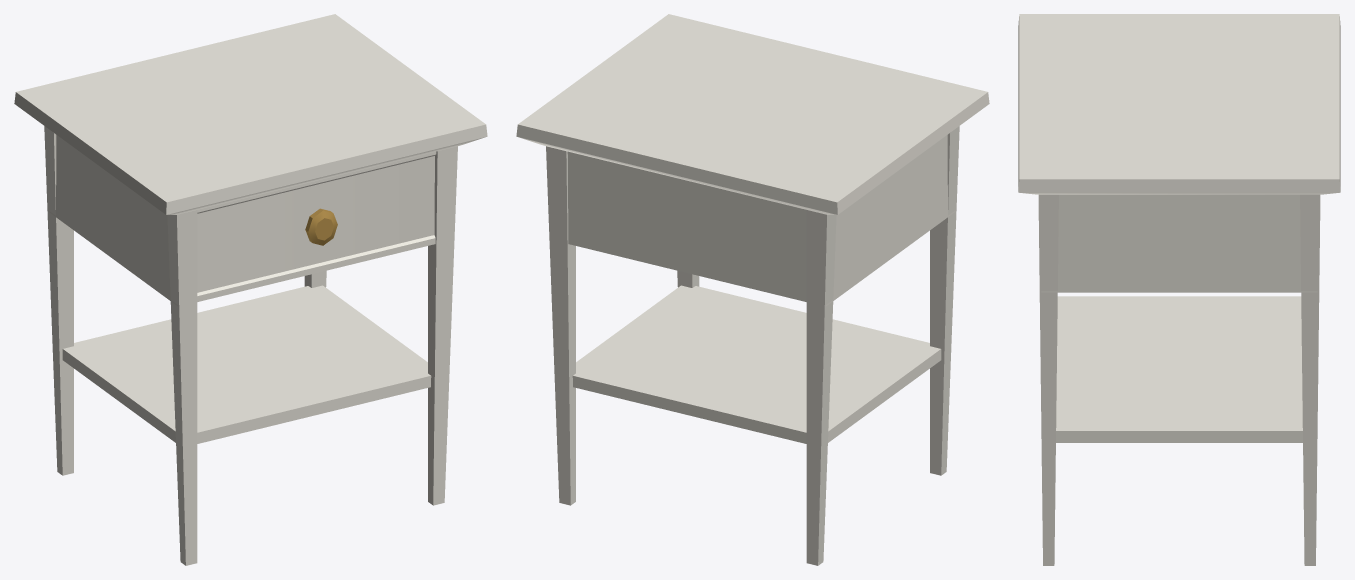
The model's file is pk_end_white.glb.
The picture shows the model from 3 angles, left to right: view 1: azimuth 30°, elevation 25°; view 2: azimuth 150°, elevation 25°; view 3: azimuth 270°, elevation 25°; orthographic projection. The views are drawn at different scales.
Parts seen in each view (by area): view 1: pk_end_white; view 2: pk_end_white; view 3: pk_end_white.
Boxes of the visible parts, bbox=[...] form: pk_end_white: bbox=[14, 14, 487, 565]; pk_end_white: bbox=[516, 14, 989, 565]; pk_end_white: bbox=[1018, 14, 1340, 565].
Bounding box in the file's own units: 0.55 × 0.62 × 0.45.
1 material, 1 textured.
